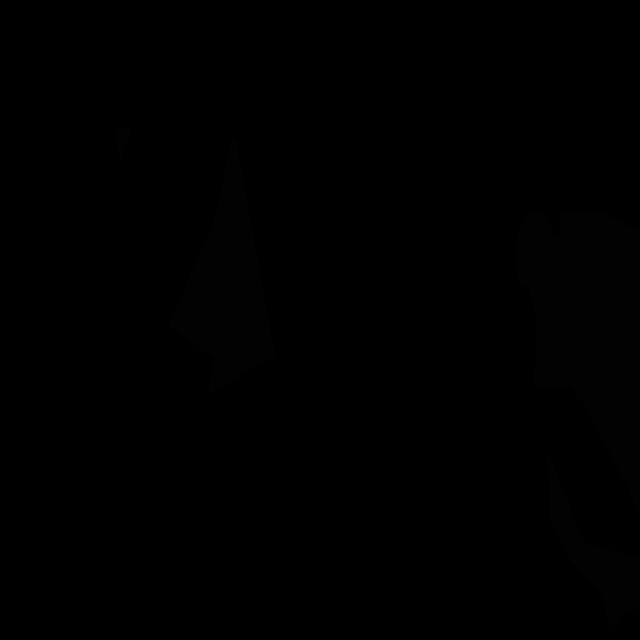cardboard: (515, 208, 640, 521), (168, 137, 275, 395), (547, 448, 640, 627), (114, 125, 133, 163)
